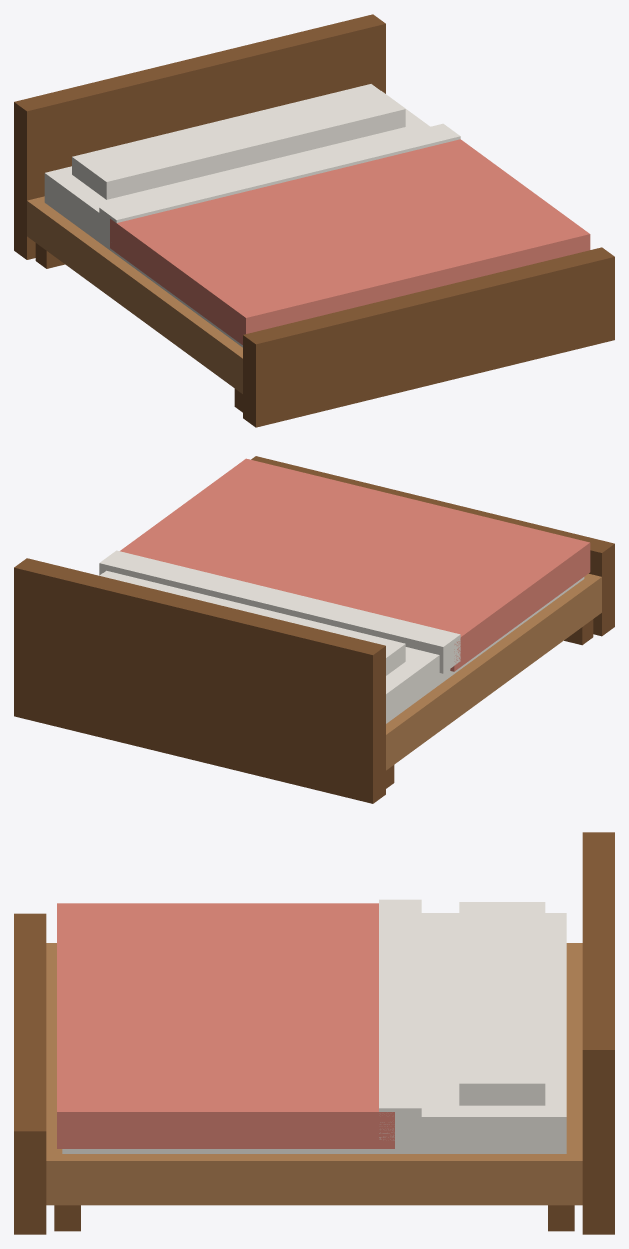
File: bedDouble.glb
3 renders of one model, top to bottom at view 1: azimuth 30°, elevation 25°; view 2: azimuth 150°, elevation 25°; view 3: azimuth 270°, elevation 25°, orthographic. The views are drawn at different scales.
Visible parts, largest first — view 1: bedDouble; view 2: bedDouble; view 3: bedDouble.
Part boxes in pixels (bbox=[...]): bedDouble: bbox=[14, 14, 614, 427]; bedDouble: bbox=[14, 456, 614, 803]; bedDouble: bbox=[14, 832, 614, 1234].
Size of the model in its own units: 0.96 by 0.38 by 1.12.
1 material, 1 textured.
